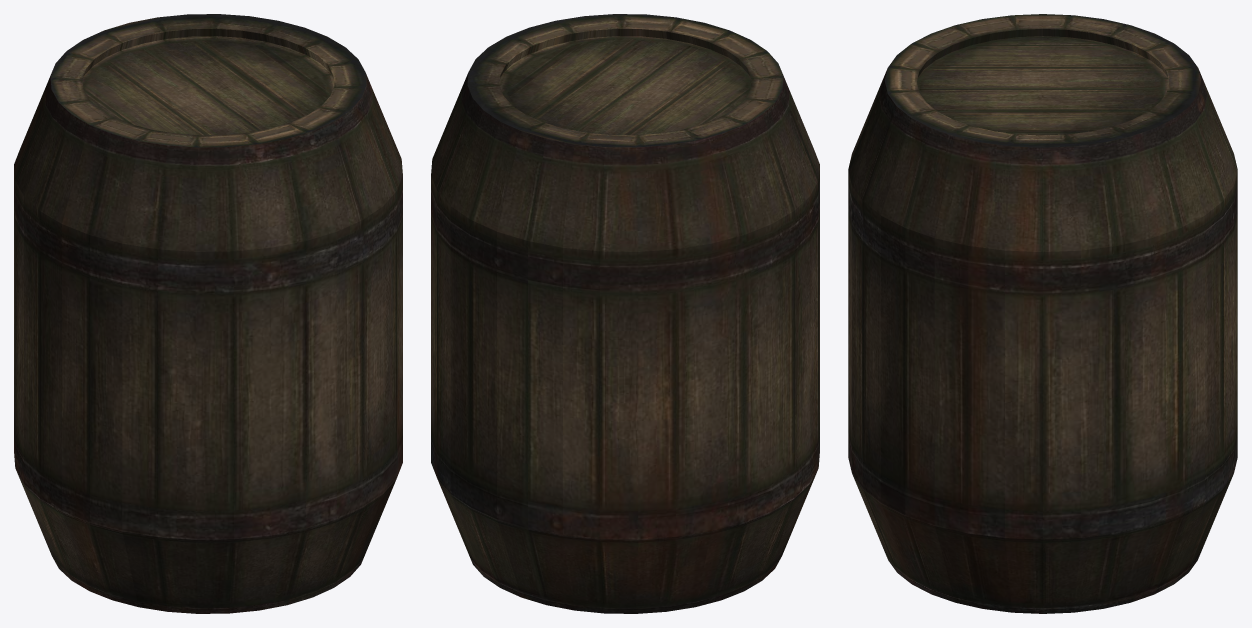
Rendered from barrilv1.fbx.
3 renders of one model, left to right at view 1: azimuth 30°, elevation 25°; view 2: azimuth 150°, elevation 25°; view 3: azimuth 270°, elevation 25°, orthographic.
Visible parts, largest first — view 1: barril; view 2: barril; view 3: barril.
Boxes of the visible parts, left/top/right/bottom form: barril: left=14, top=14, right=402, bottom=613; barril: left=431, top=14, right=819, bottom=613; barril: left=848, top=14, right=1237, bottom=613.
Bounding box in the file's own units: 252 × 333 × 252.
1 material, 1 textured.
